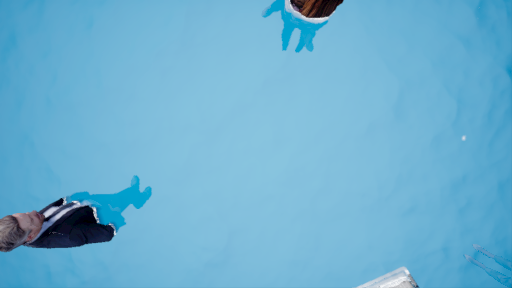person: (2, 183, 145, 253)
